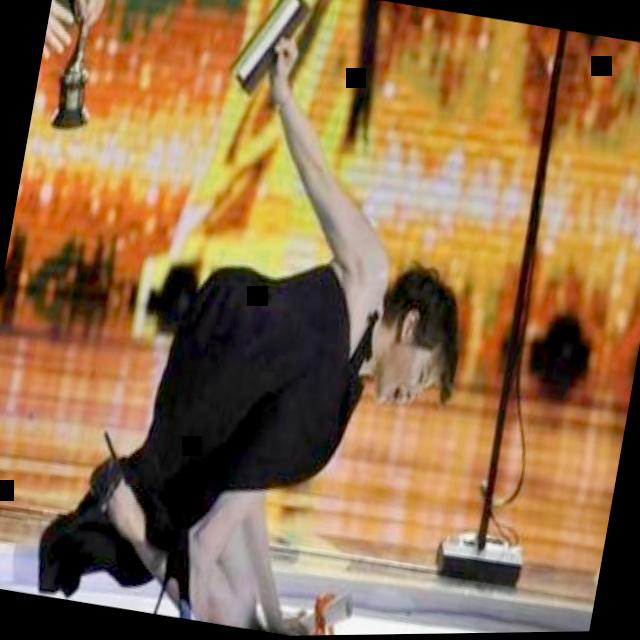Fall-Detected: (40, 9, 513, 640)
